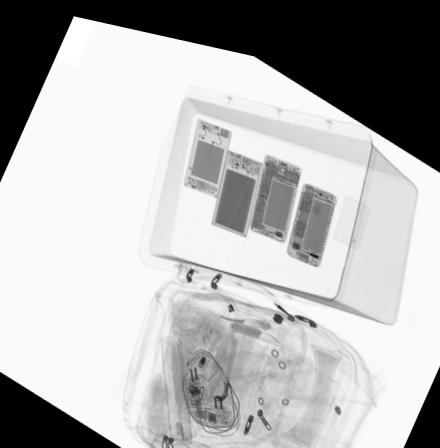Powerbank: (208, 139, 262, 227), (183, 109, 231, 189)
